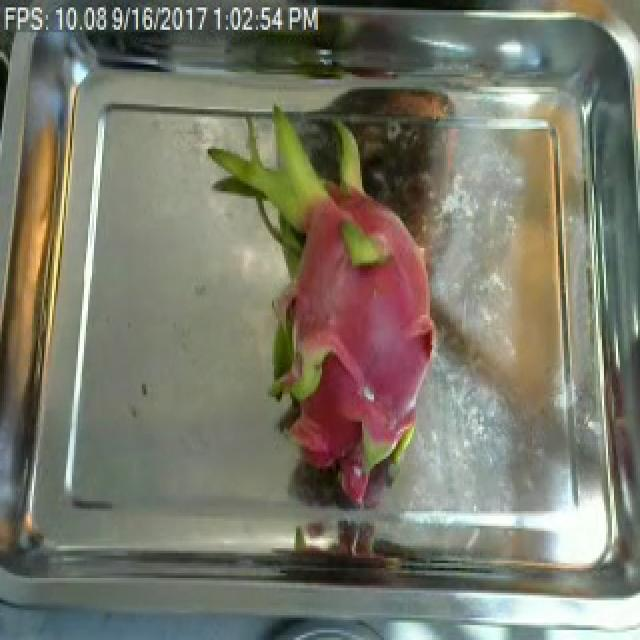fruit: (208, 109, 448, 514)
